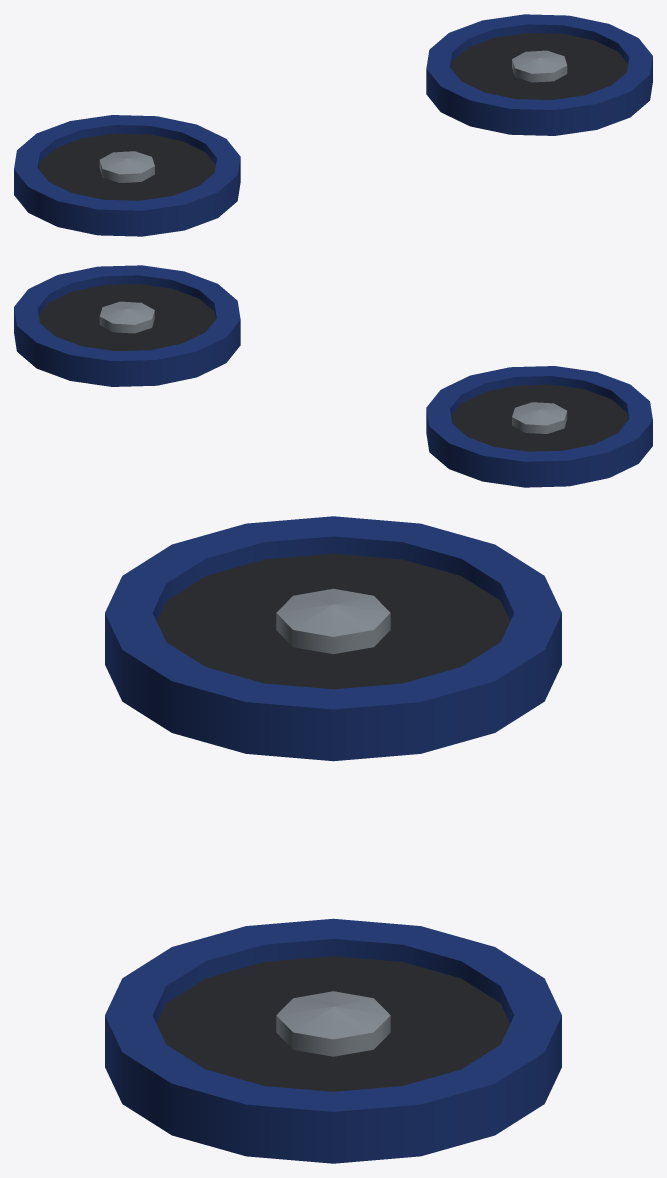
File: l4_fan.obj
3 views of the same model, one above another, from view 1: azimuth 30°, elevation 25°; view 2: azimuth 150°, elevation 25°; view 3: azimuth 270°, elevation 25° (orthographic). The views are drawn at different scales.
Visible parts, largest first — view 1: l4_fan; view 2: l4_fan; view 3: l4_fan.
Boxes of the visible parts, x1,y1,x2,y2 form: l4_fan: (14,14,652,236); l4_fan: (14,265,652,487); l4_fan: (105,516,561,1163).
Bounding box in the file's own units: 1.48 × 0.07 × 0.48.
